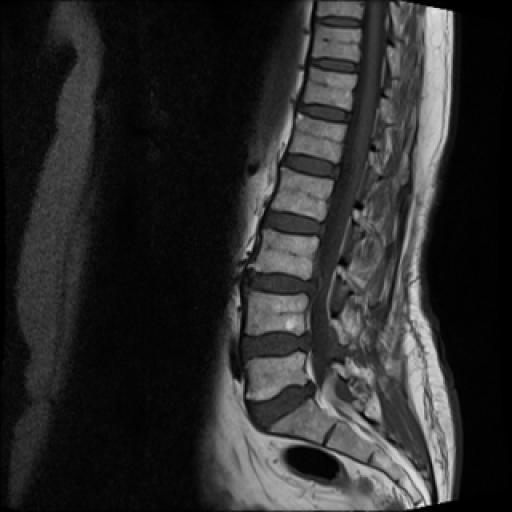L1: (289, 113, 347, 164)
L2: (271, 167, 333, 222)
L3: (250, 229, 319, 280)
L4: (244, 291, 308, 336)
L5: (246, 353, 306, 400)
S1: (270, 398, 337, 444)
